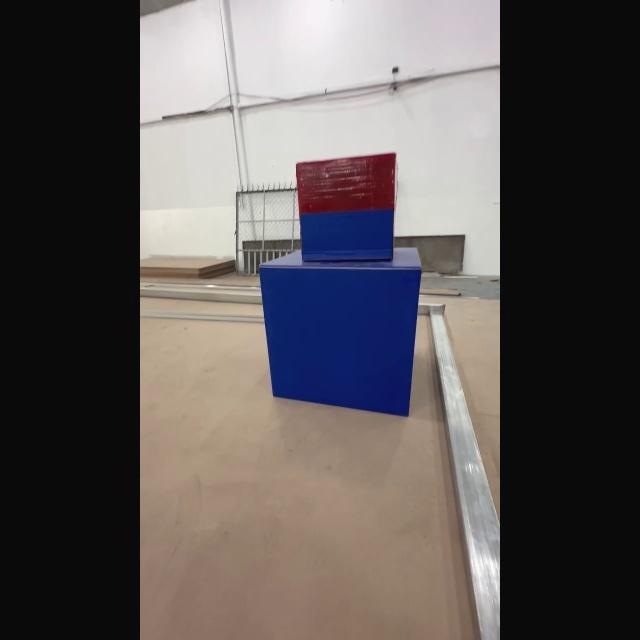earth_block: (258, 245, 423, 416)
sky_block: (290, 152, 404, 263)
